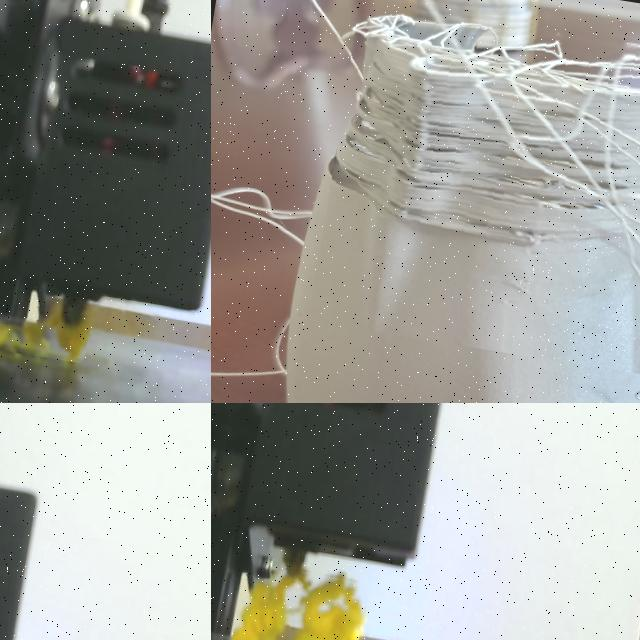spaghetti: (331, 16, 640, 374), (232, 570, 363, 640), (0, 309, 89, 362)
